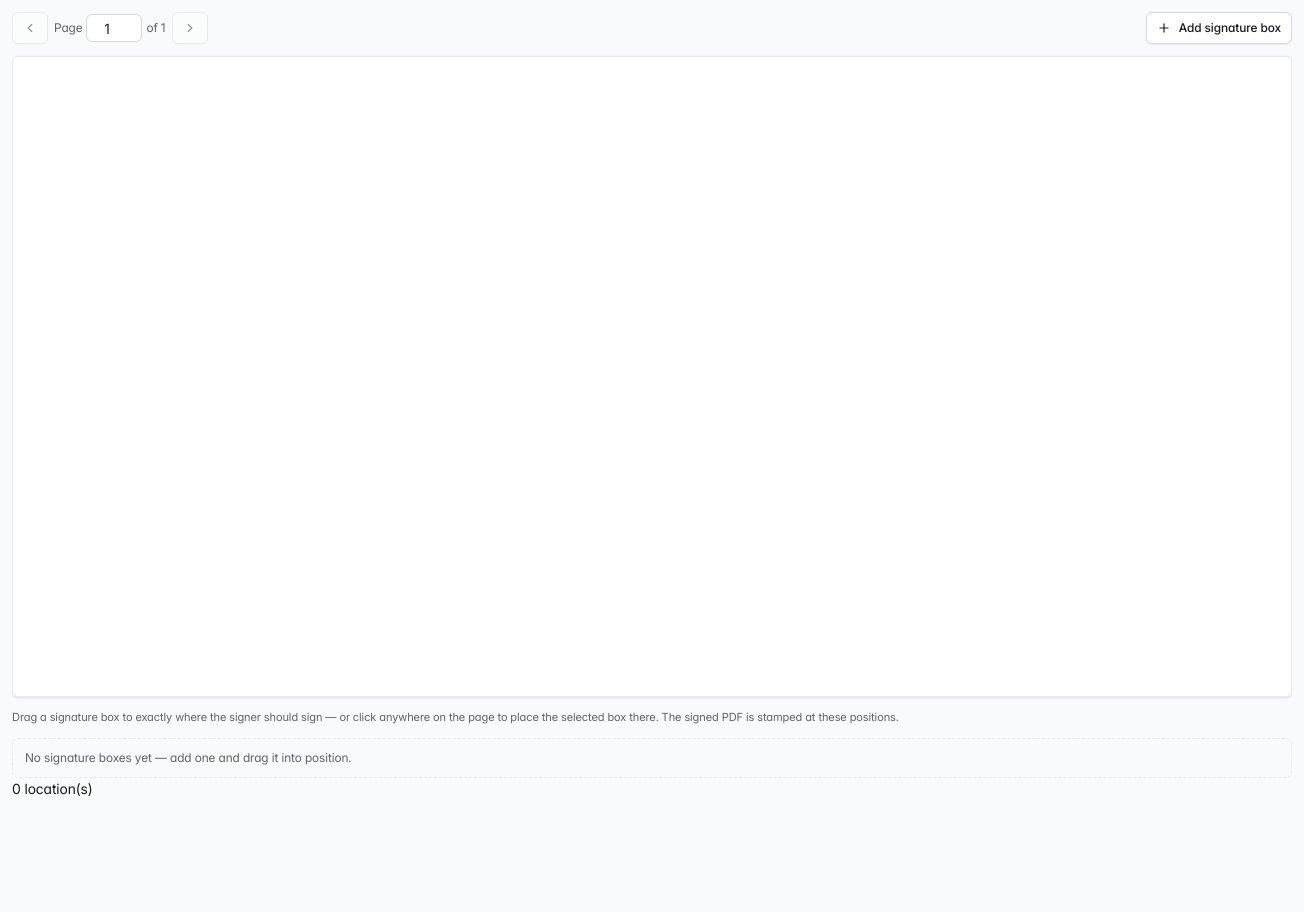
Test: SignaturePlacementEditor › adds a draggable signature box on the PDF page
The image size is (1304, 912).
Click the button "Add signature box" at [1219, 28], box 1146,12 -> 1292,44
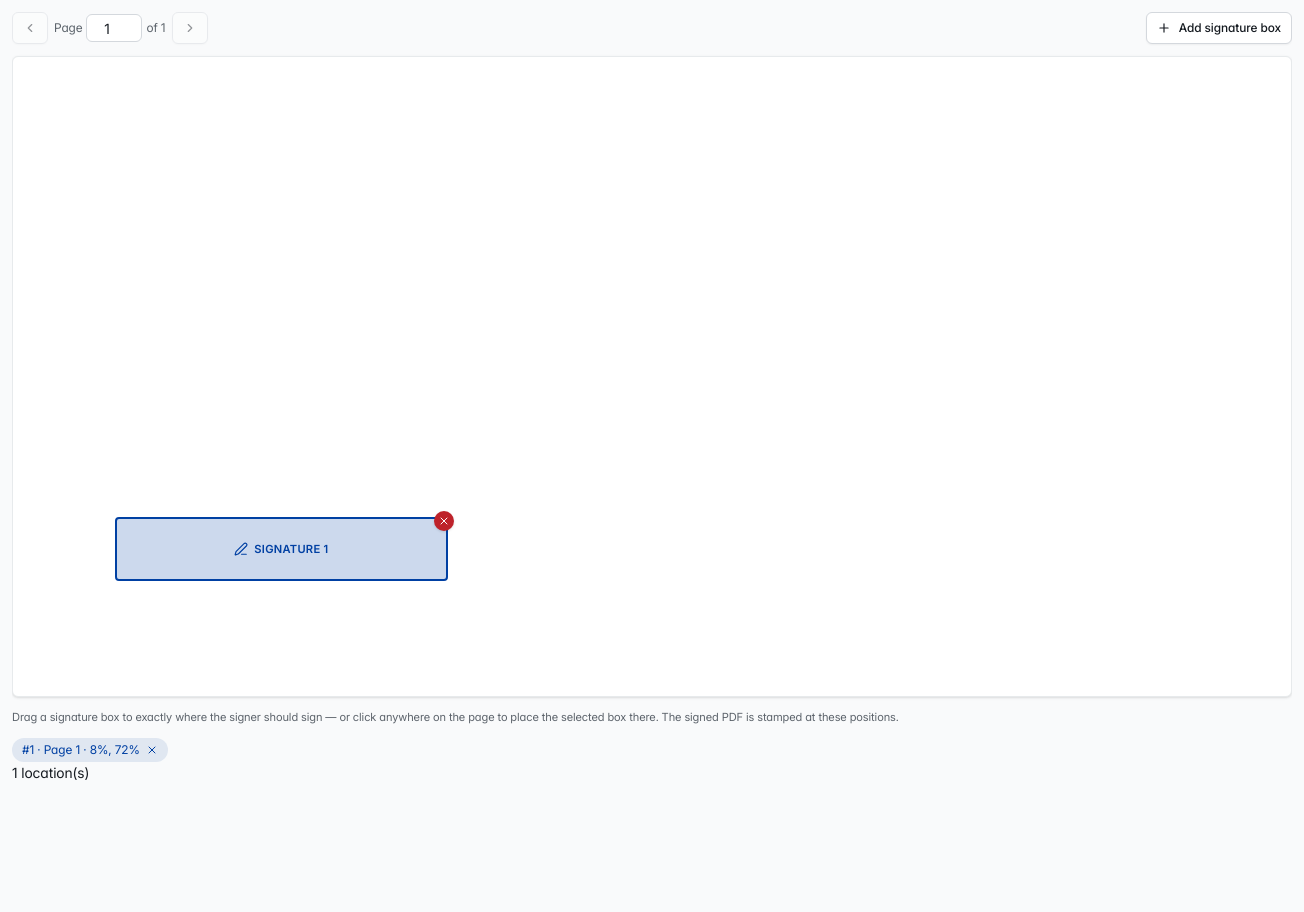
Result: the text "1 location(s)" is shown at 12,764 -> 89,781
Result: the button with aria-label "Signature box 1 on page 1" is shown at 115,517 -> 448,581
Result: the button "#1 · Page 1 · 8%, 72%" is shown at 22,742 -> 140,758
